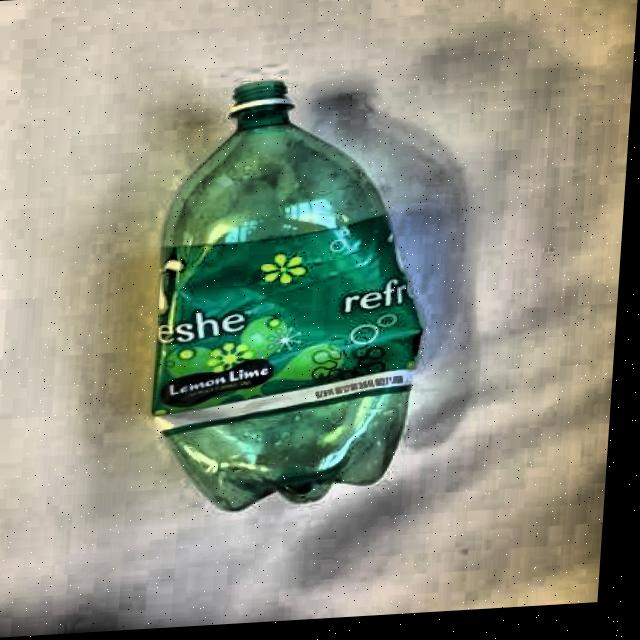plastic: (127, 70, 440, 517)
